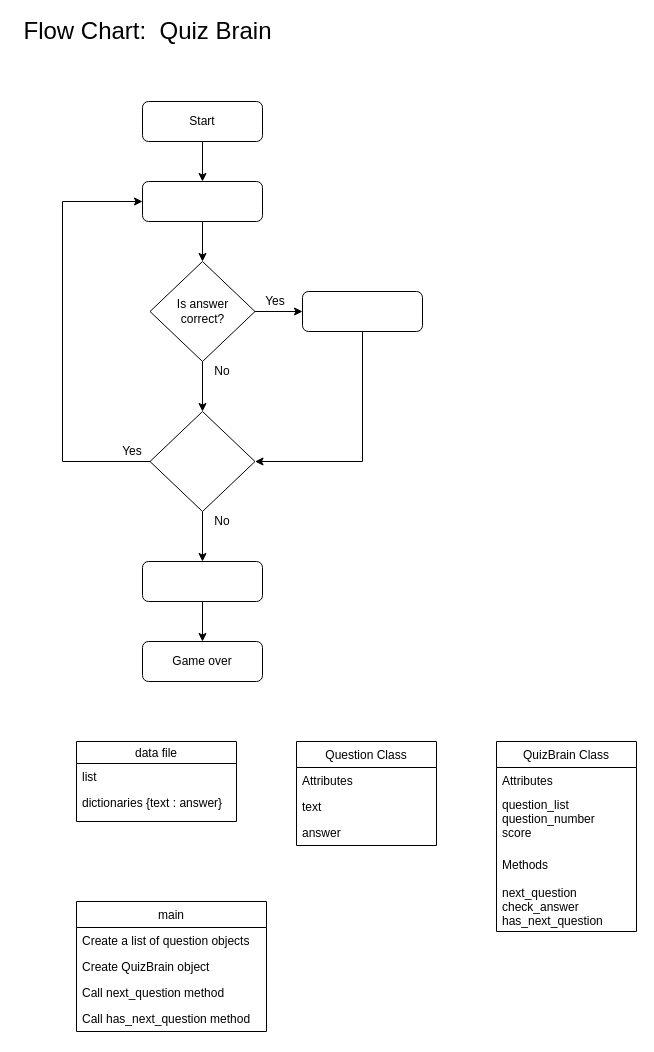
Some shapes in this 654 by 1052 pixel diagram are drawn without their labels. The shapes that lost their labels are listed below. From the top down, each one's centre as x and y in pixels, then its label:
pixel 202 201: Ask user a question
pixel 362 311: Add point to score
pixel 202 461: Is there another question?
pixel 202 581: Display results
